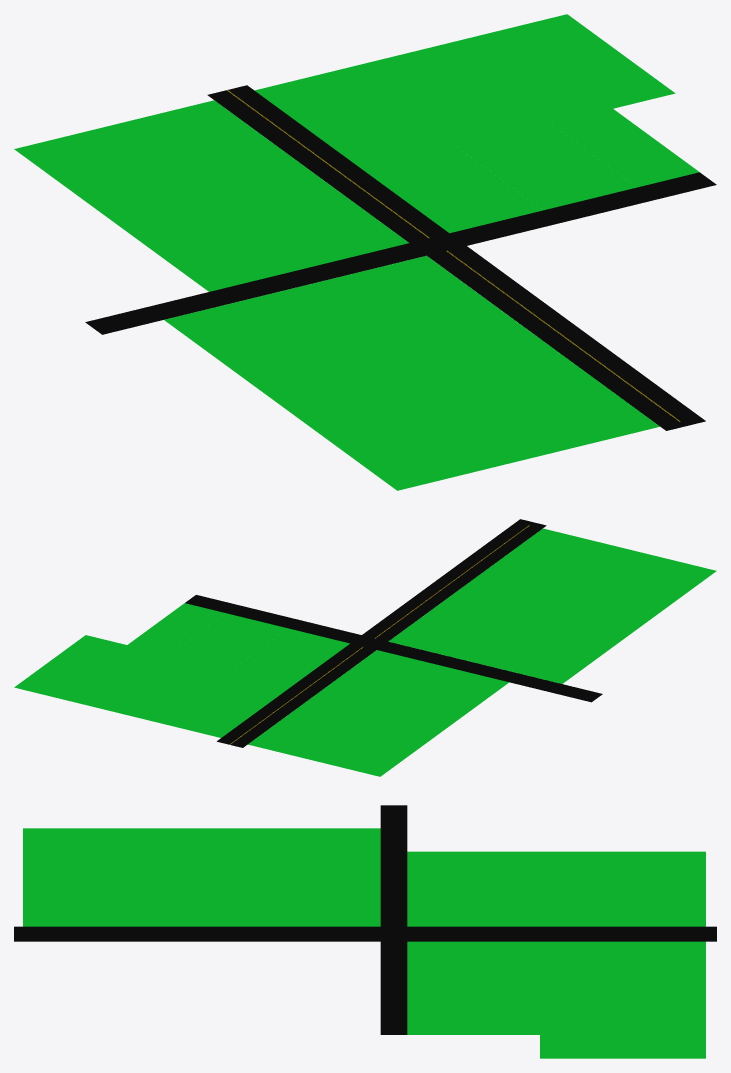
The model's file is RoadGroundDraco.glb.
The picture shows the model from 3 angles, top to bottom: view 1: azimuth 30°, elevation 25°; view 2: azimuth 150°, elevation 25°; view 3: azimuth 270°, elevation 25°; orthographic projection. The views are drawn at different scales.
Visible parts, largest first — view 1: Lot5, Road, Lot7, Lot3, Lot4, Lot1, Lot2, Lot10, Lot8, Lot6, Lot9; view 2: Lot5, Road, Lot7, Lot3, Lot4, Lot1, Lot2, Lot10, Lot8, Lot6, Lot9; view 3: Lot5, Road, Lot7, Lot3, Lot4, Lot1, Lot2, Lot10, Lot6, Lot8, Lot9.
Part boxes in pixels (left/top/right/bottom): Lot5: left=14, top=100, right=408, bottom=291; Road: left=85, top=85, right=716, bottom=430; Lot7: left=254, top=44, right=549, bottom=169; Lot3: left=404, top=339, right=659, bottom=460; Lot4: left=289, top=256, right=540, bottom=372; Lot1: left=278, top=373, right=521, bottom=490; Lot2: left=164, top=289, right=402, bottom=403; Lot10: left=442, top=14, right=675, bottom=123; Lot8: left=457, top=124, right=636, bottom=210; Lot6: left=363, top=147, right=542, bottom=233; Lot9: left=551, top=109, right=699, bottom=187; Lot5: left=248, top=650, right=508, bottom=776; Road: left=185, top=519, right=602, bottom=747; Lot7: left=97, top=655, right=292, bottom=737; Lot3: left=464, top=528, right=633, bottom=608; Lot4: left=389, top=586, right=554, bottom=663; Lot1: left=555, top=550, right=716, bottom=628; Lot2: left=480, top=608, right=637, bottom=683; Lot10: left=14, top=635, right=168, bottom=707; Lot8: left=169, top=613, right=287, bottom=670; Lot6: left=231, top=628, right=349, bottom=685; Lot9: left=127, top=603, right=225, bottom=654; Lot5: left=407, top=851, right=705, bottom=926; Road: left=14, top=805, right=716, bottom=1034; Lot7: left=540, top=941, right=705, bottom=1011; Lot3: left=23, top=875, right=205, bottom=926; Lot4: left=206, top=875, right=380, bottom=926; Lot1: left=23, top=828, right=205, bottom=875; Lot2: left=206, top=828, right=380, bottom=875; Lot10: left=540, top=1011, right=705, bottom=1058; Lot6: left=407, top=941, right=539, bottom=976; Lot8: left=407, top=976, right=539, bottom=1011; Lot9: left=407, top=1011, right=539, bottom=1034.
Size of the model in its own units: 165 by 0 by 194.
